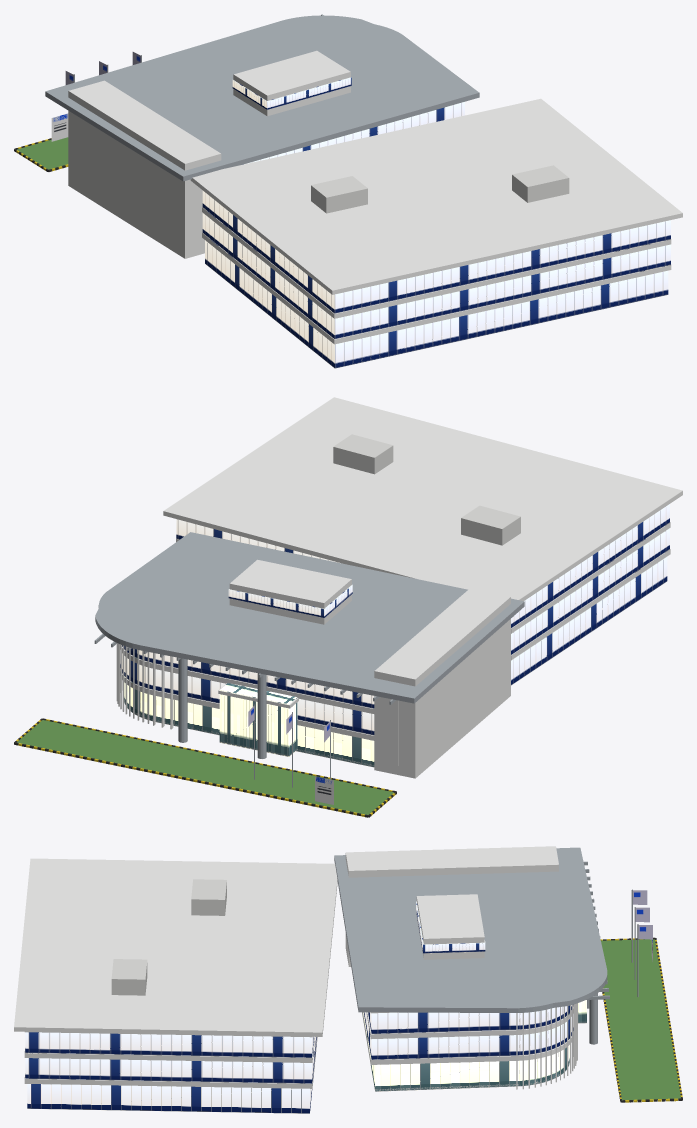
File: adm.glb
The picture shows the model from 3 angles, top to bottom: view 1: azimuth 30°, elevation 25°; view 2: azimuth 150°, elevation 25°; view 3: azimuth 270°, elevation 25°; orthographic projection. The views are drawn at different scales.
Visible parts, largest first — view 1: Training block bands and canopy, Training block glazing, Admin canopy and columns, Admin white bands, Admin penthouse, Training block roof, Admin blue glazing, Admin lawn; view 2: Training block bands and canopy, Admin canopy and columns, Admin white bands, Training block glazing, Admin lawn, Admin blue glazing, Admin penthouse, Admin ground floor glazing, Admin glass box, Training block roof, Admin fins, Admin kerb black (+1 smaller); view 3: Training block bands and canopy, Admin canopy and columns, Training block glazing, Admin lawn, Admin blue glazing, Admin white bands, Admin ground floor glazing, Admin penthouse, Training block roof, Admin fins, Admin KONE flags, Admin kerb black (+2 smaller).
Part boxes in pixels (x1=…): Training block bands and canopy: x1=190, y1=98, x2=682, y2=344; Training block glazing: x1=202, y1=190, x2=670, y2=368; Admin canopy and columns: x1=45, y1=14, x2=479, y2=181; Admin white bands: x1=68, y1=80, x2=221, y2=258; Admin penthouse: x1=233, y1=50, x2=350, y2=116; Training block roof: x1=311, y1=165, x2=569, y2=213; Admin blue glazing: x1=232, y1=77, x2=464, y2=164; Admin lawn: x1=17, y1=137, x2=68, y2=169; Training block bands and canopy: x1=163, y1=397, x2=682, y2=660; Admin canopy and columns: x1=94, y1=532, x2=524, y2=758; Admin white bands: x1=120, y1=588, x2=510, y2=778; Training block glazing: x1=176, y1=504, x2=669, y2=685; Admin lawn: x1=17, y1=720, x2=393, y2=814; Admin blue glazing: x1=120, y1=584, x2=374, y2=735; Admin penthouse: x1=229, y1=559, x2=351, y2=624; Admin ground floor glazing: x1=124, y1=657, x2=374, y2=767; Admin glass box: x1=219, y1=683, x2=297, y2=756; Training block roof: x1=333, y1=434, x2=520, y2=545; Admin fins: x1=116, y1=643, x2=398, y2=765; Admin kerb black: x1=14, y1=718, x2=396, y2=817; Training block bands and canopy: x1=14, y1=858, x2=337, y2=1088; Admin canopy and columns: x1=334, y1=847, x2=609, y2=1044; Training block glazing: x1=25, y1=1032, x2=316, y2=1113; Admin lawn: x1=601, y1=939, x2=680, y2=1100; Admin blue glazing: x1=363, y1=901, x2=573, y2=1059; Admin white bands: x1=345, y1=846, x2=573, y2=1091; Admin ground floor glazing: x1=362, y1=1012, x2=569, y2=1091; Admin penthouse: x1=416, y1=894, x2=484, y2=959; Training block roof: x1=111, y1=879, x2=226, y2=995; Admin fins: x1=516, y1=1003, x2=577, y2=1089; Admin KONE flags: x1=633, y1=890, x2=652, y2=939; Admin kerb black: x1=602, y1=937, x2=682, y2=1102.
Size of the model in its own units: 63.28 by 17.9 by 98.59.
Materials: 10 (4 with a texture image).
